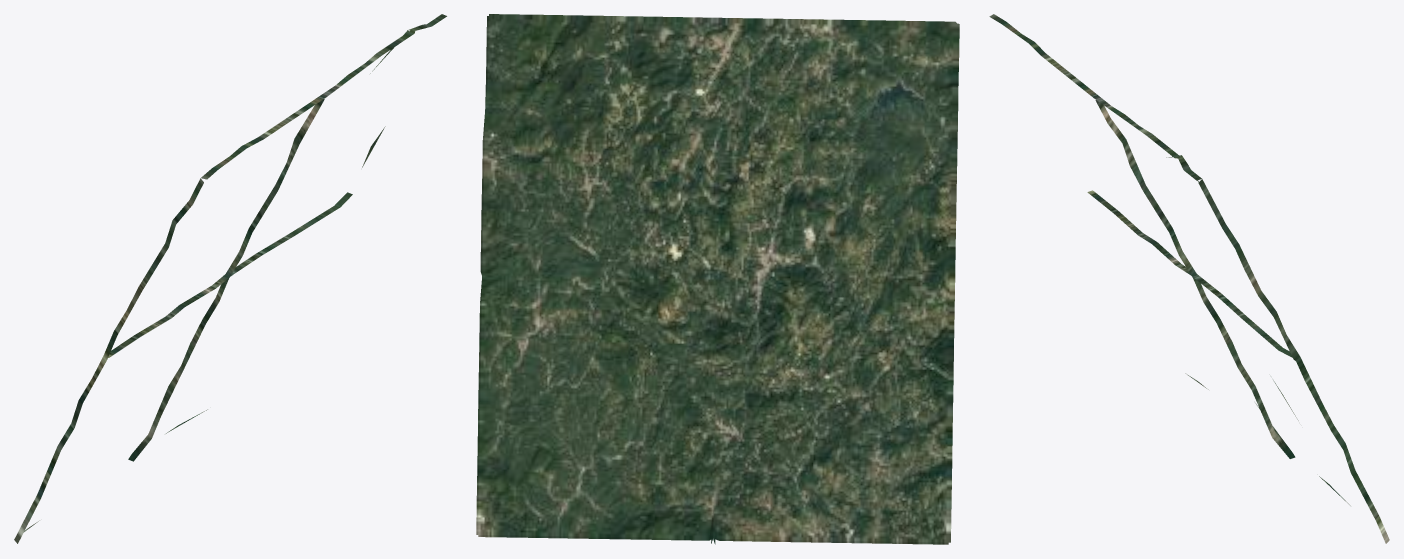
3 renders of one model, left to right at view 1: azimuth 30°, elevation 25°; view 2: azimuth 150°, elevation 25°; view 3: azimuth 270°, elevation 25°, orthographic. The views are drawn at different scales.
Bounding box in the file's own units: 78998 × 71914 × 63967.
1 material, 1 textured.
